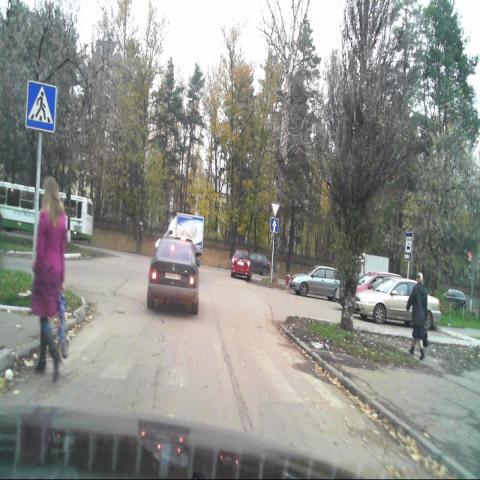5_18: (404, 232, 413, 262)
